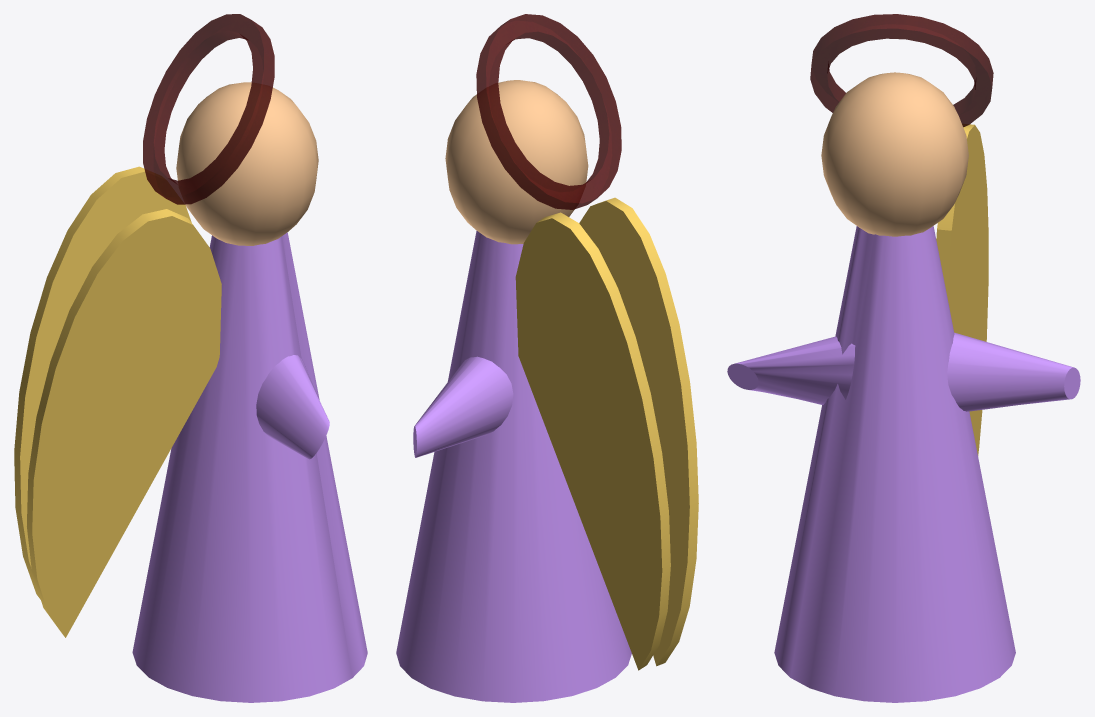
The picture shows the model from 3 angles, left to right: view 1: azimuth 30°, elevation 25°; view 2: azimuth 150°, elevation 25°; view 3: azimuth 270°, elevation 25°; orthographic projection.
Visible parts, largest first — view 1: Mesh2_Model; view 2: Mesh2_Model; view 3: Mesh2_Model.
Boxes of the visible parts, x1=… form: Mesh2_Model: x1=14, y1=14, x2=367, y2=702; Mesh2_Model: x1=396, y1=14, x2=698, y2=702; Mesh2_Model: x1=727, y1=14, x2=1080, y2=702.
Size of the model in its own units: 0.5 by 1 by 0.5.
